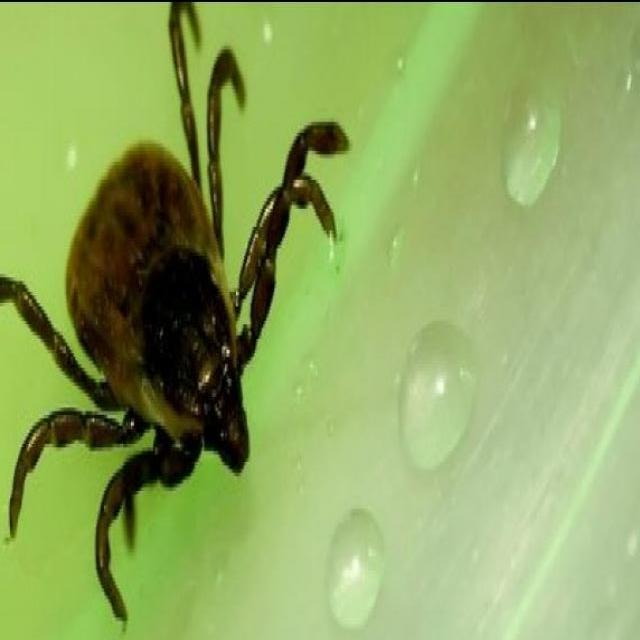Rhipicephalus Sanguineus-F: (0, 0, 352, 619)
